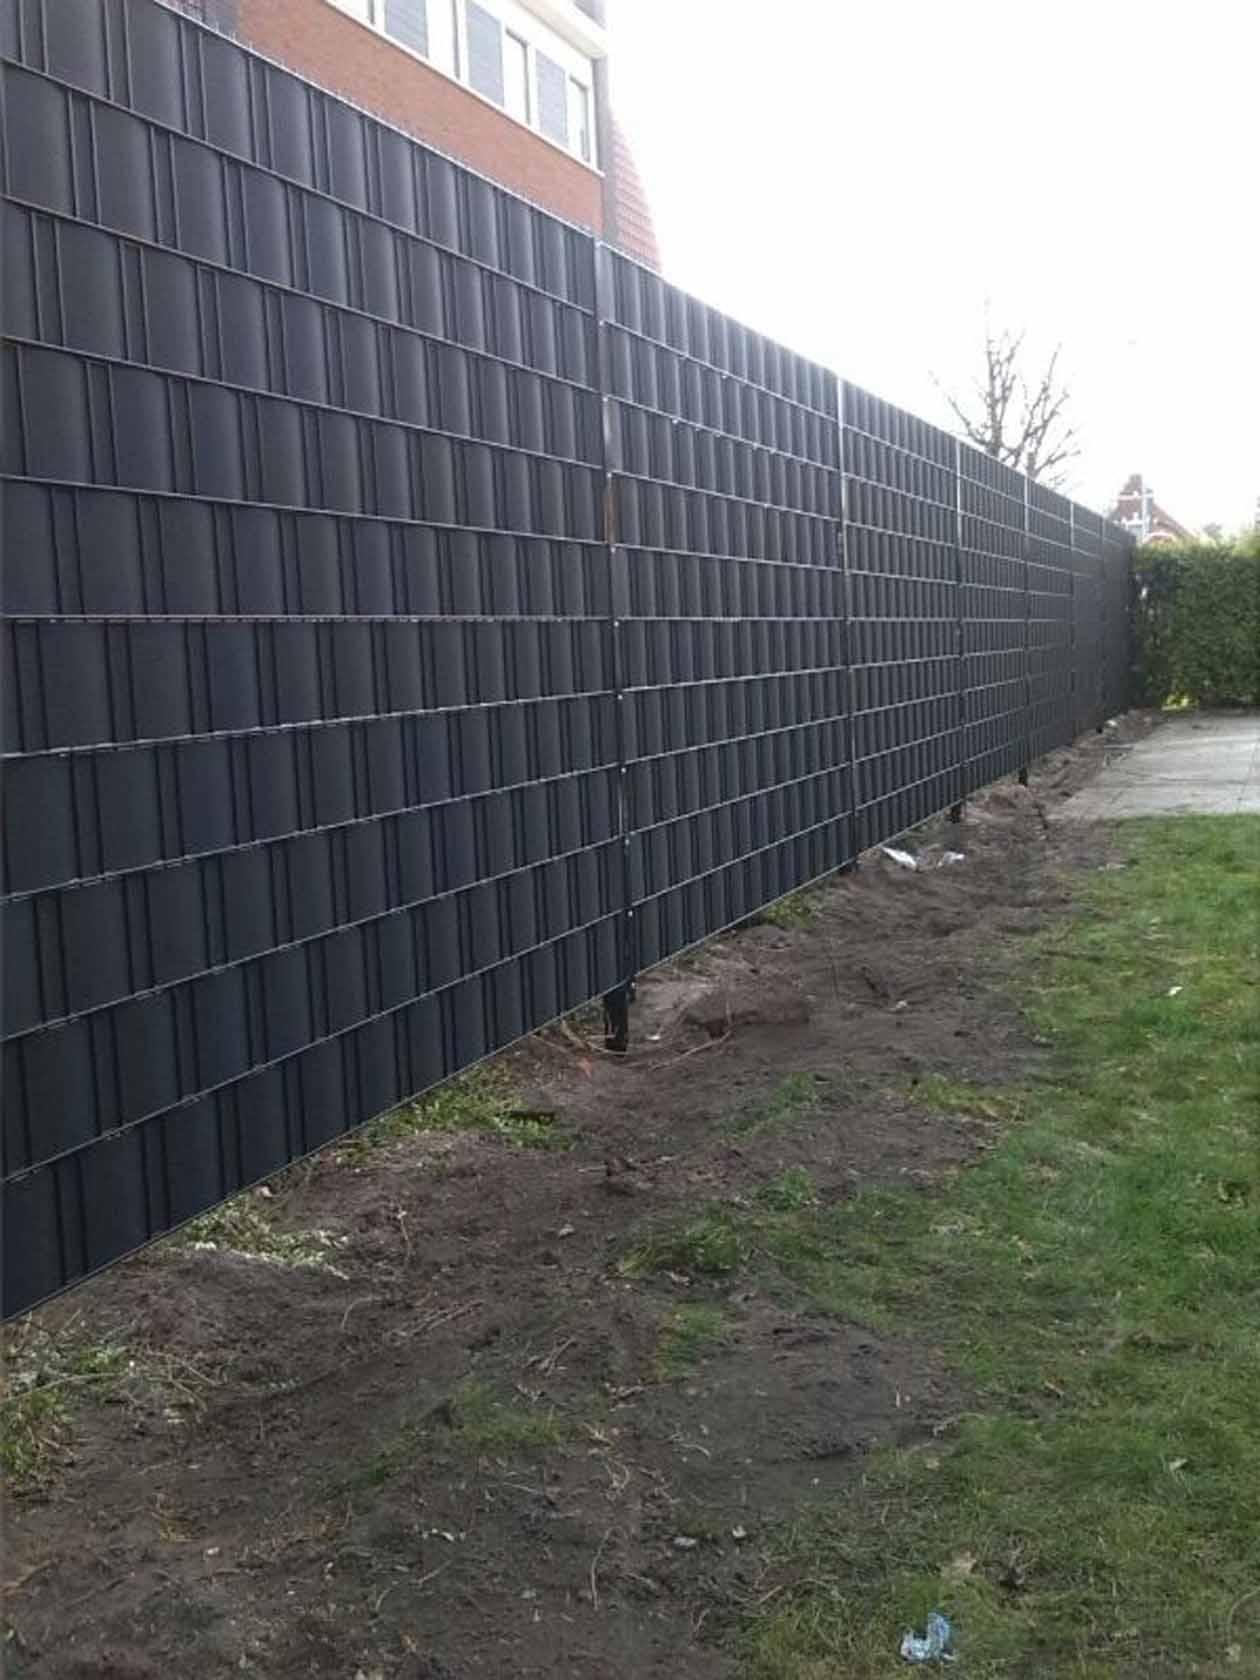obstacle: (167, 0, 1260, 1675)
